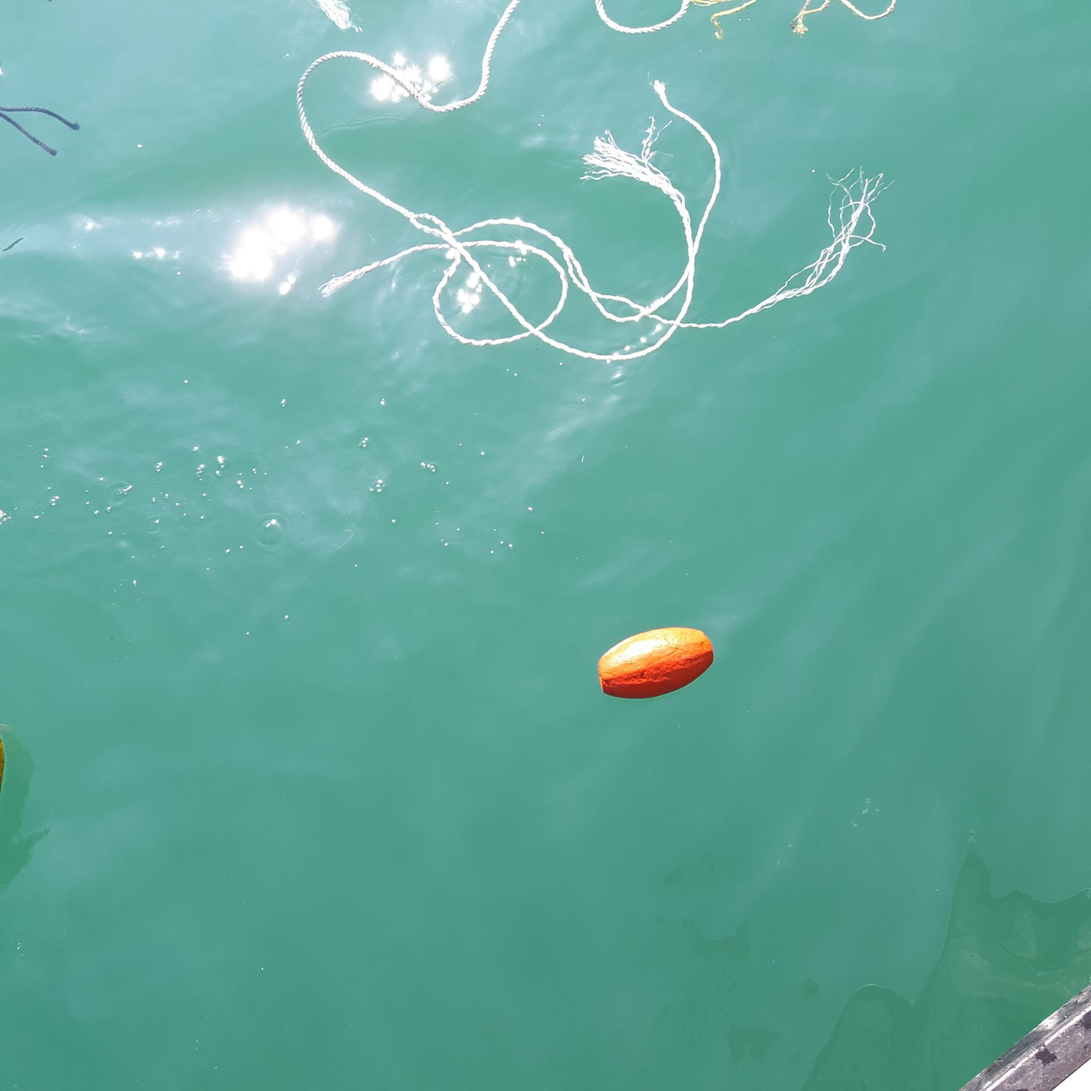sampah_terapung: (296, 1, 896, 361), (598, 628, 714, 699), (1, 108, 81, 157)
